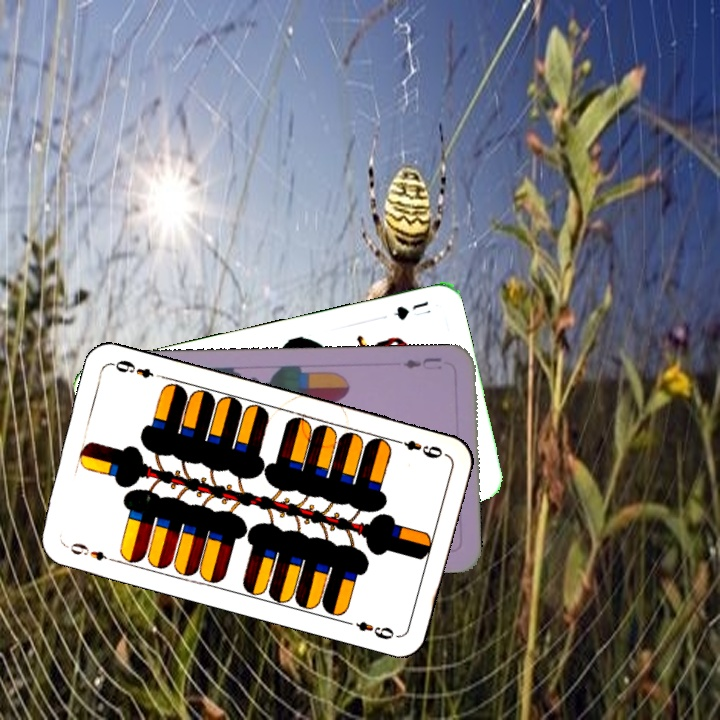E9: (61, 538, 119, 565), (390, 435, 445, 461)
EU: (399, 354, 444, 373)
GU: (391, 297, 434, 323)
